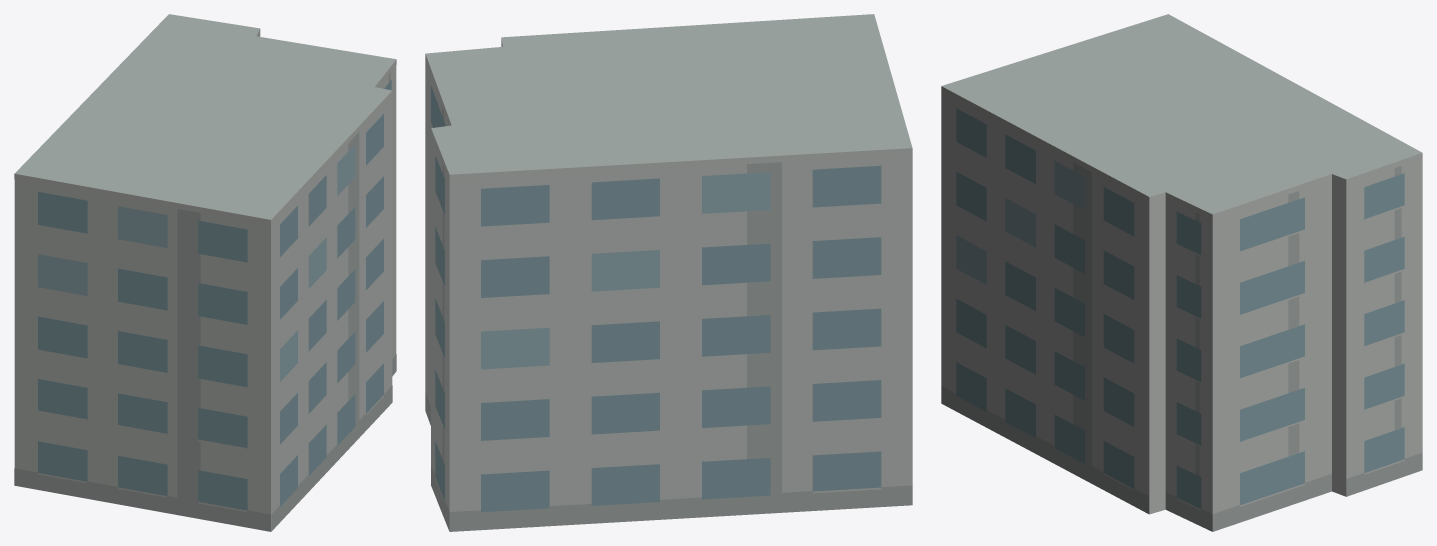
File: survey-upis-32816452.glb
3 renders of one model, left to right at view 1: azimuth 30°, elevation 25°; view 2: azimuth 150°, elevation 25°; view 3: azimuth 270°, elevation 25°, orthographic. The views are drawn at different scales.
Parts seen in each view (by area): view 1: survey-upis-32816452.tmp; view 2: survey-upis-32816452.tmp; view 3: survey-upis-32816452.tmp.
Boxes of the visible parts, box(x1,y1,x2,y2) form: survey-upis-32816452.tmp: box(14, 14, 396, 531); survey-upis-32816452.tmp: box(425, 14, 912, 531); survey-upis-32816452.tmp: box(941, 14, 1422, 531).
Size of the model in its own units: 18.02 by 13.3 by 18.29.
